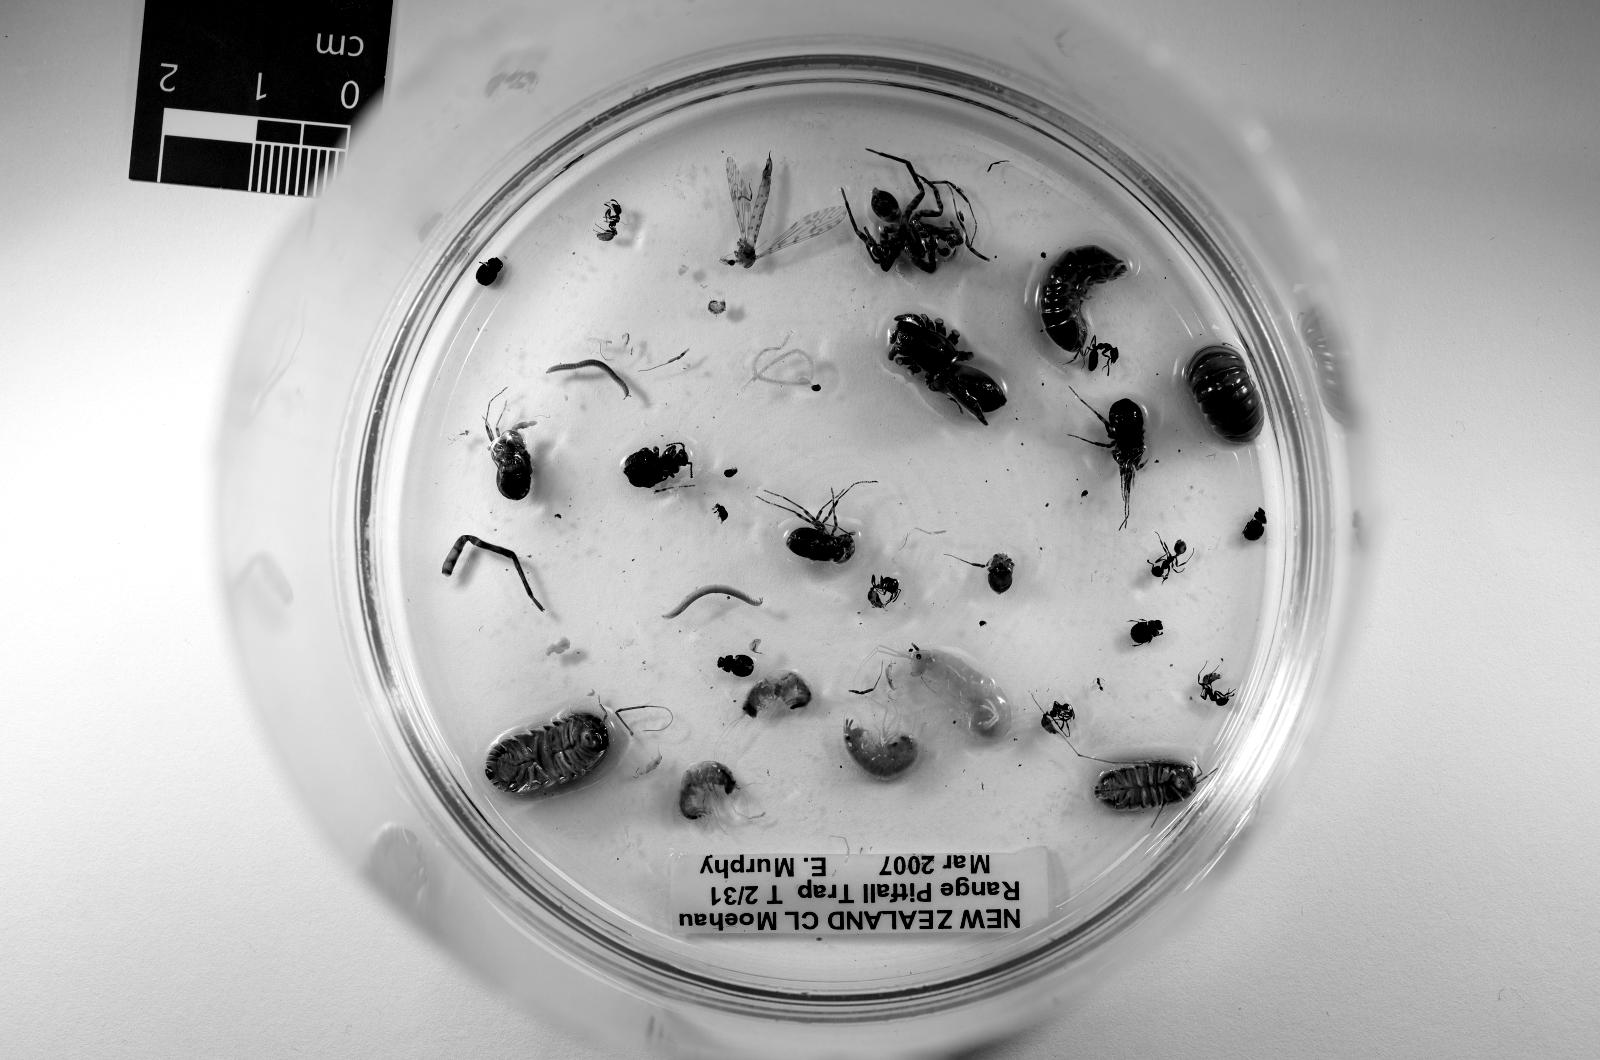acari: (721, 466, 738, 478)
amphipoda: (913, 646, 1012, 742), (843, 720, 919, 780), (678, 761, 738, 820), (744, 671, 812, 717), (706, 302, 728, 314)
araneae: (841, 153, 966, 273), (887, 314, 1006, 422)
chilopoda: (753, 336, 816, 388)
coleoptera: (622, 444, 691, 487), (1132, 618, 1162, 646), (475, 258, 503, 286), (719, 655, 753, 677), (1244, 509, 1265, 541), (713, 503, 728, 522)
diplopoda: (546, 357, 631, 397), (662, 584, 763, 618)
diptera: (1088, 677, 1107, 694)
formicidae: (1149, 541, 1187, 581), (1197, 671, 1235, 705), (1088, 336, 1119, 376), (1041, 702, 1075, 736), (597, 199, 622, 243), (869, 575, 900, 608)
isopoda: (485, 711, 609, 791), (1041, 245, 1128, 354), (1187, 344, 1263, 441), (1094, 761, 1197, 810)
opiliones: (1088, 397, 1147, 528), (769, 487, 856, 562), (485, 403, 538, 500), (966, 552, 1016, 593)
tipulidae: (721, 155, 847, 267)
